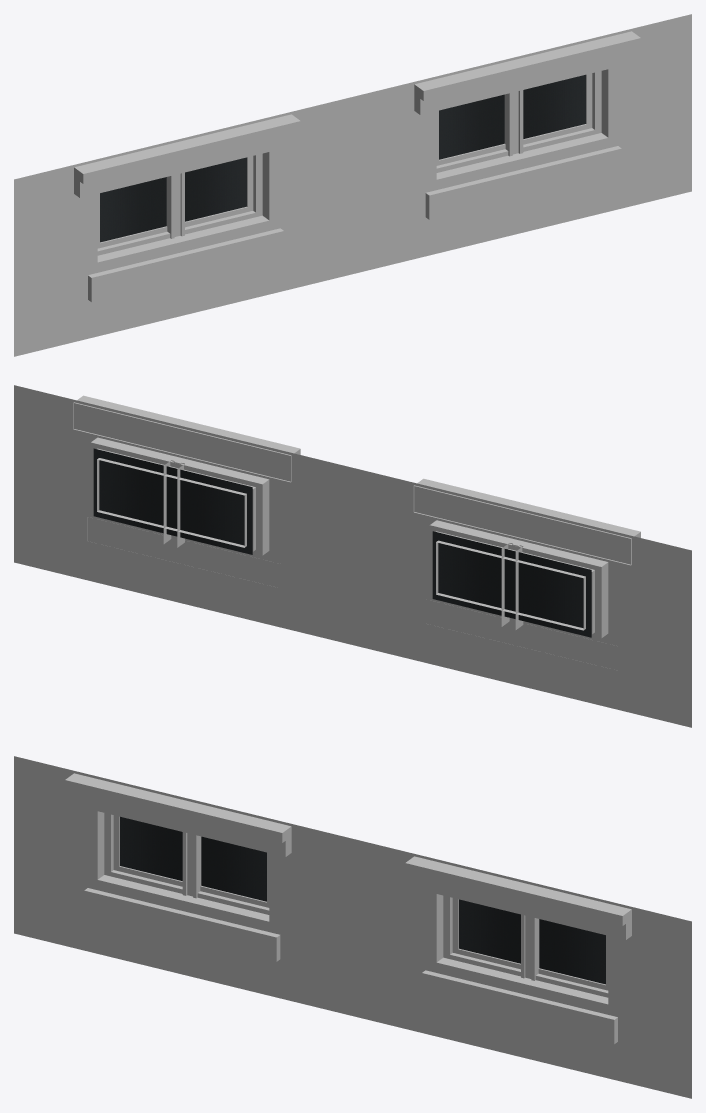
File: House_07_Windows_03.fbx
3 renders of one model, top to bottom at view 1: azimuth 30°, elevation 25°; view 2: azimuth 150°, elevation 25°; view 3: azimuth 330°, elevation 25°, orthographic.
Parts seen in each view (by area): view 1: House_07_Windows_03_LOD0; view 2: House_07_Windows_03_LOD0; view 3: House_07_Windows_03_LOD0.
Boxes of the visible parts, x1,y1,x2,y2 form: House_07_Windows_03_LOD0: (14, 14, 691, 356); House_07_Windows_03_LOD0: (14, 385, 691, 727); House_07_Windows_03_LOD0: (14, 756, 691, 1098).
Size of what is drawn, in the model's own units: 400 by 100 by 23.1.
